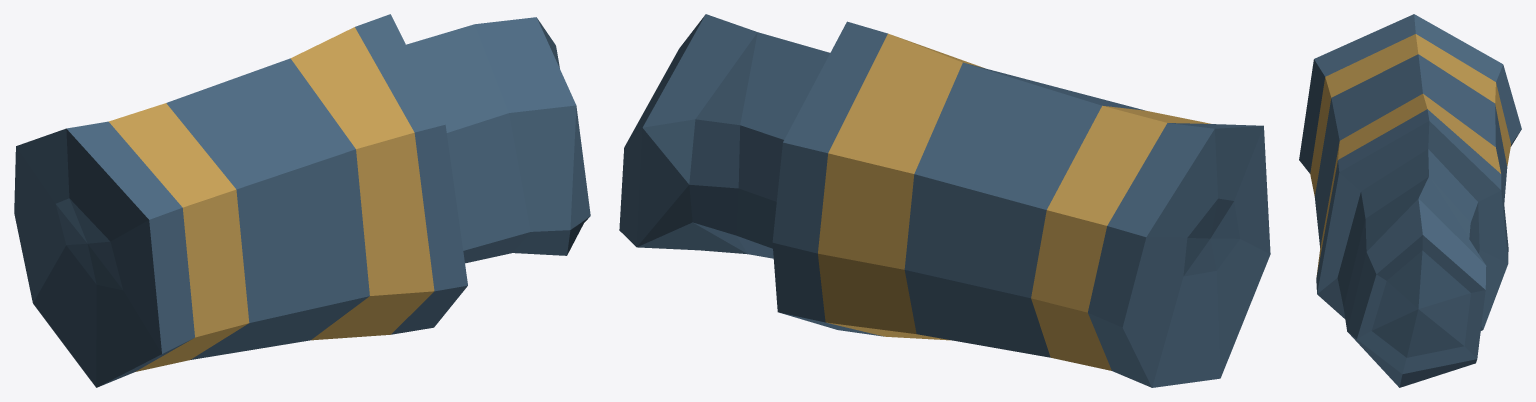
File: Chr_ArmLowerRight_Female_18_Static.fbx
3 views of the same model, side by side, from view 1: azimuth 30°, elevation 25°; view 2: azimuth 150°, elevation 25°; view 3: azimuth 270°, elevation 25° (orthographic). The views are drawn at different scales.
Parts seen in each view (by area): view 1: Chr_ArmLowerRight_Female_18_Static; view 2: Chr_ArmLowerRight_Female_18_Static; view 3: Chr_ArmLowerRight_Female_18_Static.
Part boxes in pixels (x1,y1,x2,y2): Chr_ArmLowerRight_Female_18_Static: [14, 14, 590, 387]; Chr_ArmLowerRight_Female_18_Static: [619, 14, 1270, 387]; Chr_ArmLowerRight_Female_18_Static: [1299, 14, 1521, 387].
Bounding box in the file's own units: 0.2926 × 0.1666 × 0.1405.
